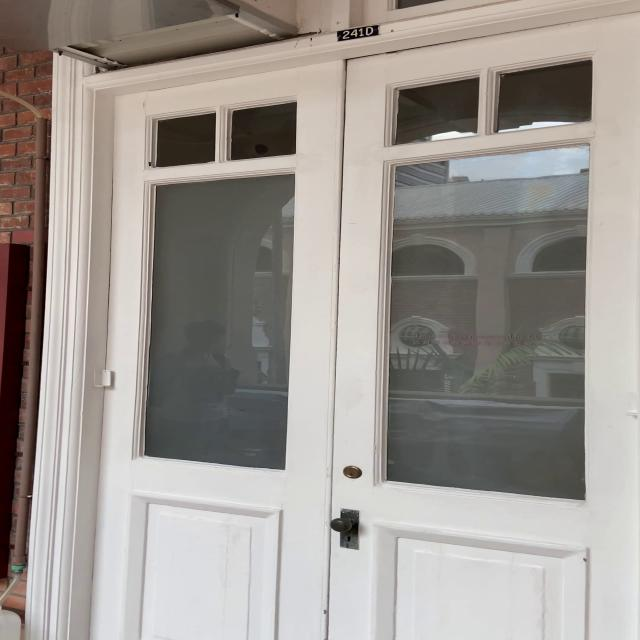room241d: (334, 24, 380, 44)
